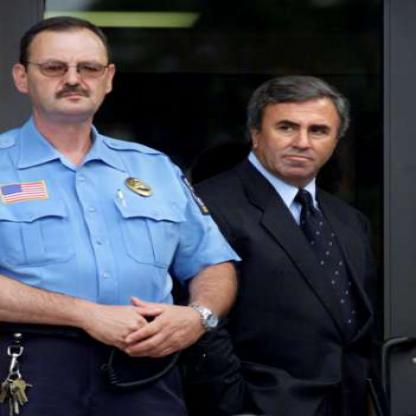face: (27, 19, 116, 119), (261, 82, 345, 180)
